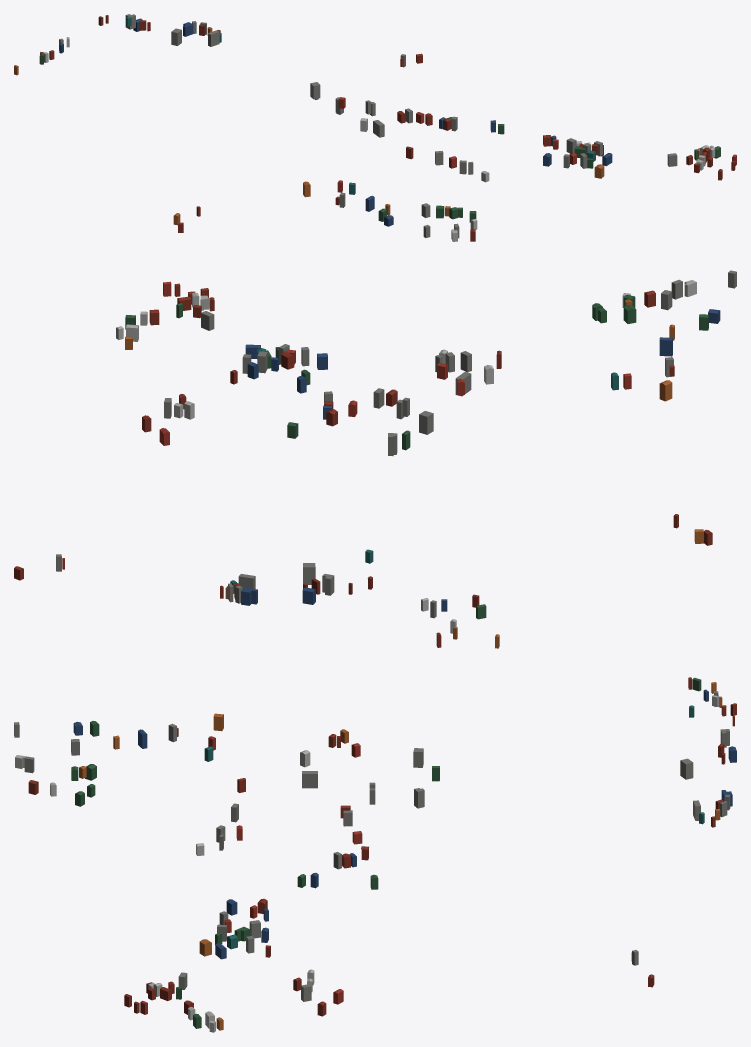
File: near-15-27364-14874.69e836b7.glb
3 views of the same model, one above another, from view 1: azimuth 30°, elevation 25°; view 2: azimuth 150°, elevation 25°; view 3: azimuth 270°, elevation 25° (orthographic). The views are drawn at different scales.
Size of the model in its own units: 1085 by 226 by 1159.
